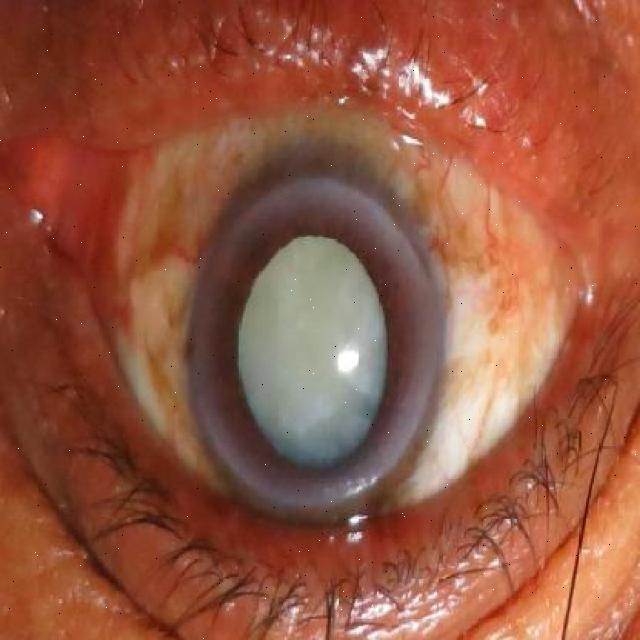Cataract: (190, 172, 448, 503)
